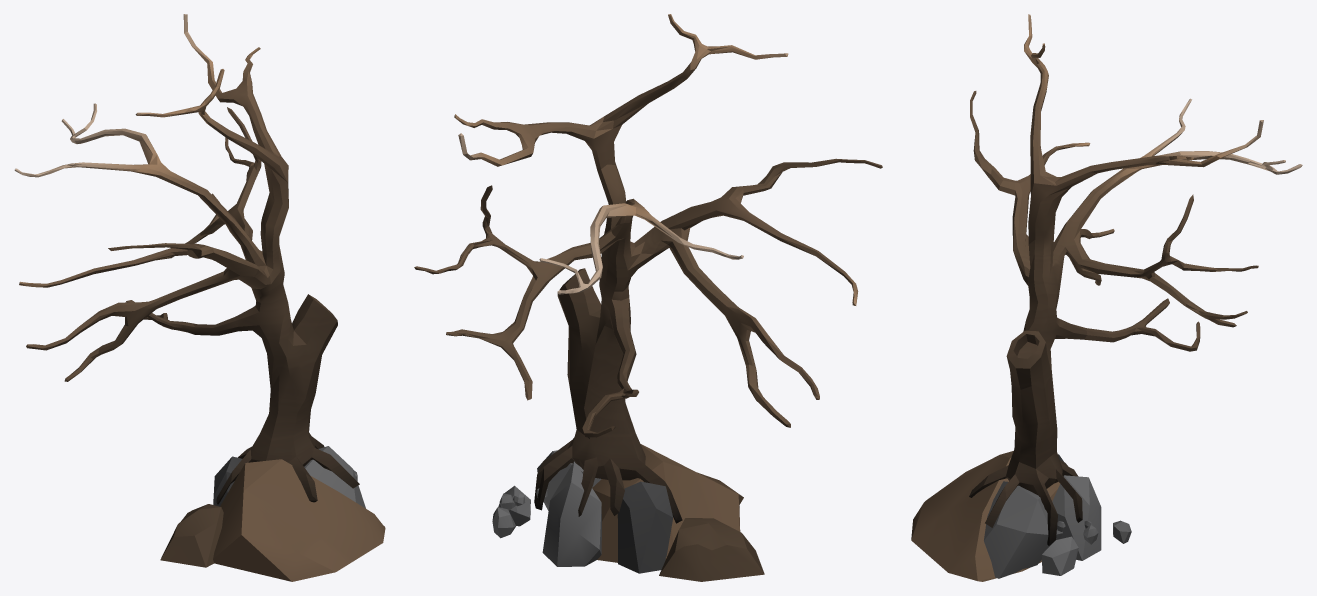
Rendered from ea03_environment_nature_tree_1b_pre_2.002_lev2.glb.
3 renders of one model, left to right at view 1: azimuth 30°, elevation 25°; view 2: azimuth 150°, elevation 25°; view 3: azimuth 270°, elevation 25°, orthographic. The views are drawn at different scales.
Visible parts, largest first — view 1: ea03_environment_nature_tree_1b_pre_2.002_lev2; view 2: ea03_environment_nature_tree_1b_pre_2.002_lev2; view 3: ea03_environment_nature_tree_1b_pre_2.002_lev2.
Part boxes in pixels (left/top/right/bottom): ea03_environment_nature_tree_1b_pre_2.002_lev2: left=14, top=14, right=385, bottom=581; ea03_environment_nature_tree_1b_pre_2.002_lev2: left=414, top=14, right=882, bottom=581; ea03_environment_nature_tree_1b_pre_2.002_lev2: left=911, top=14, right=1302, bottom=581.
Bounding box in the file's own units: 19.05 × 26.36 × 19.78.
Materials: 1 (1 with a texture image).
